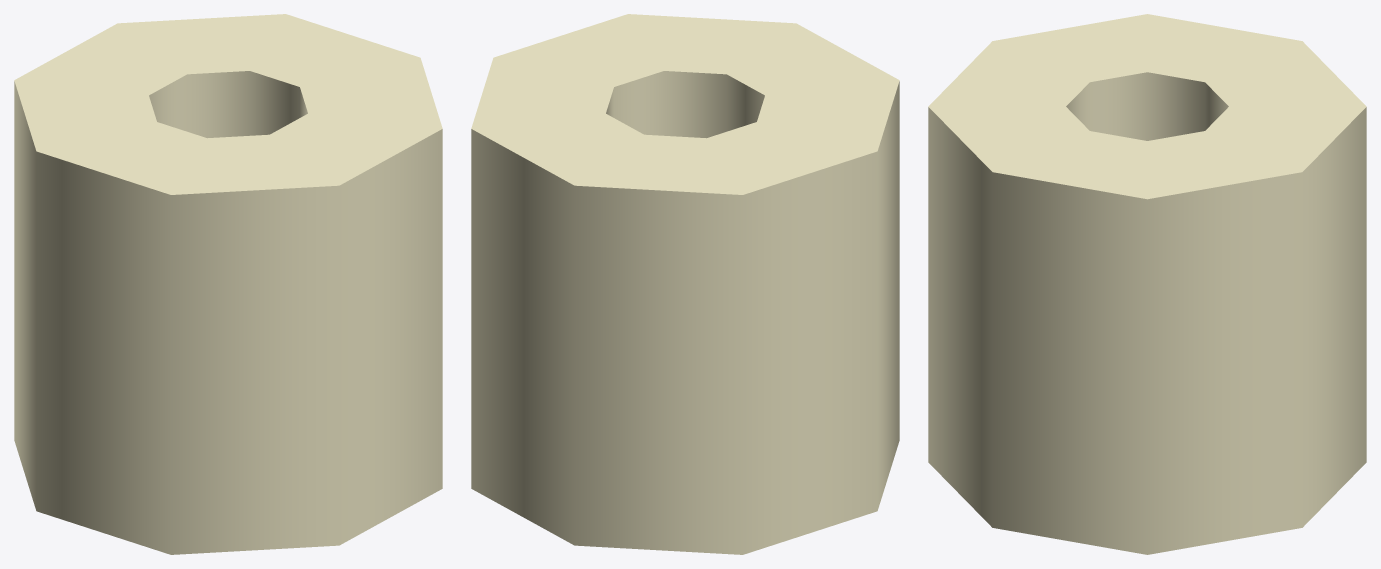
File: SM_Toilet_Paper_2_01.fbx
The picture shows the model from 3 angles, left to right: view 1: azimuth 30°, elevation 25°; view 2: azimuth 150°, elevation 25°; view 3: azimuth 270°, elevation 25°; orthographic projection.
Parts seen in each view (by area): view 1: SM_Toilet_Paper_2_01; view 2: SM_Toilet_Paper_2_01; view 3: SM_Toilet_Paper_2_01.
Boxes of the visible parts, bbox=[...] form: SM_Toilet_Paper_2_01: bbox=[14, 14, 442, 554]; SM_Toilet_Paper_2_01: bbox=[471, 14, 899, 554]; SM_Toilet_Paper_2_01: bbox=[928, 14, 1366, 554].
Size of the model in its own units: 13.03 by 11.67 by 13.03.
